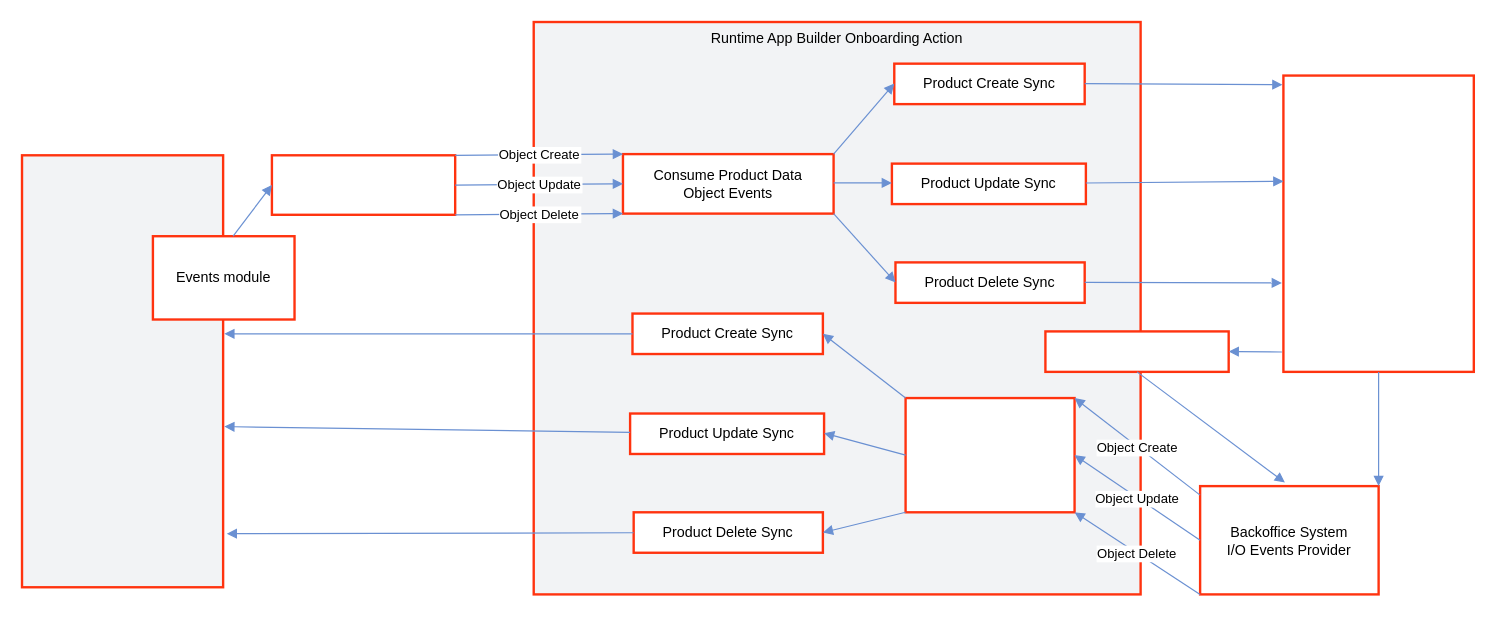
This 1495x625 diagram has some shape labels left out. The shapes that lost their labels are listed below. From the top down, each one's centre as x and y in pixels, then its label:
At (363,184): "Adobe Commerce I/O Events Provider".
At (1378,223): "Backoffice System".
At (122,371): "Adobe Commerce".
At (1136,351): "Event Ingestion Webhook".
At (989,454): "Consume Product Backoffice Events".
